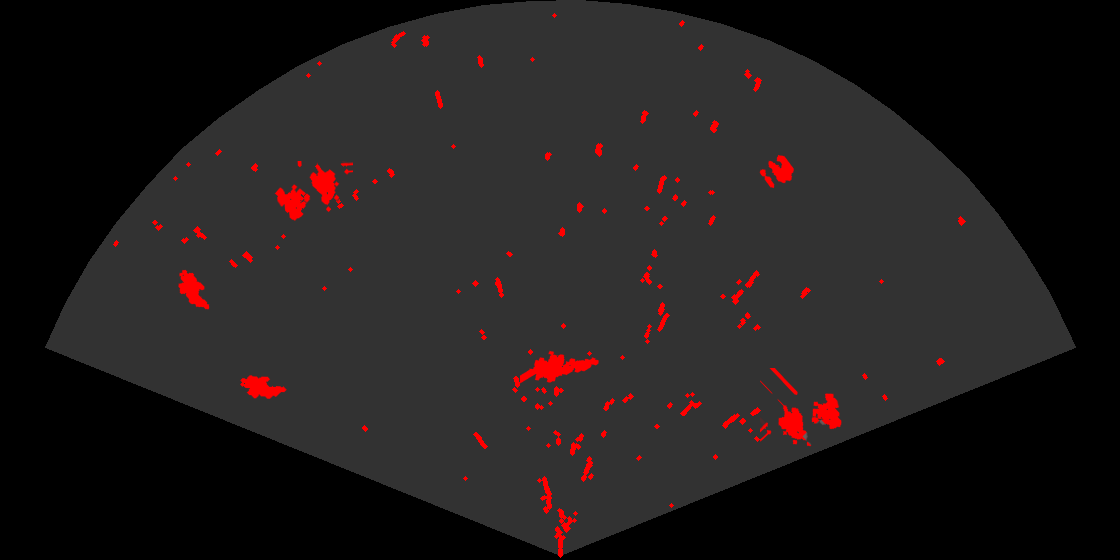AUV: (177, 268, 211, 311), (239, 374, 288, 400)
ball: (758, 153, 796, 190)
cage: (760, 368, 843, 448), (273, 161, 353, 222)
frogman: (520, 349, 600, 385)
